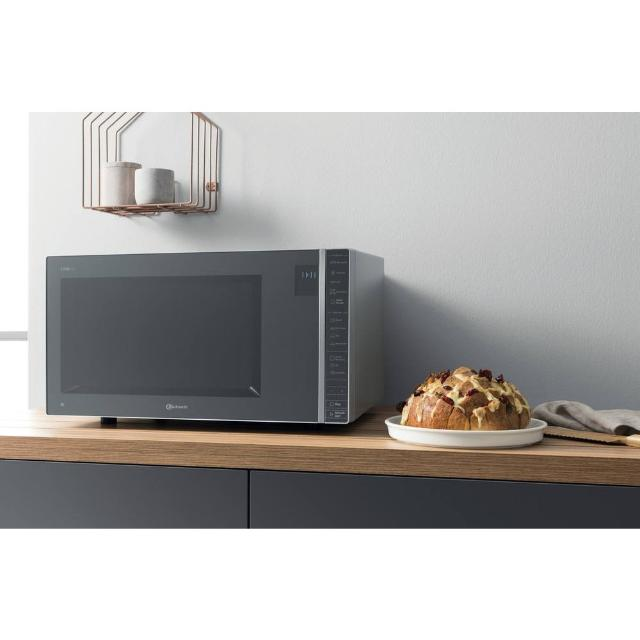Microwave: (39, 246, 390, 437)
